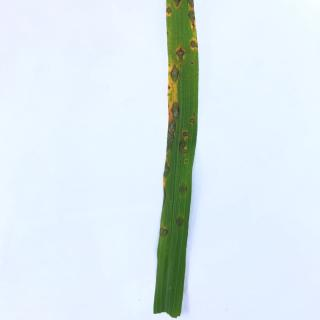Blast: (166, 121, 177, 153), (173, 44, 187, 65), (184, 9, 196, 33), (178, 130, 188, 156), (169, 65, 182, 84), (170, 101, 182, 119), (162, 157, 170, 179), (174, 214, 186, 228), (177, 183, 189, 196), (188, 35, 198, 50), (158, 226, 168, 238), (170, 0, 184, 8), (165, 5, 172, 17), (184, 0, 194, 8), (190, 113, 195, 124), (183, 158, 190, 164)
